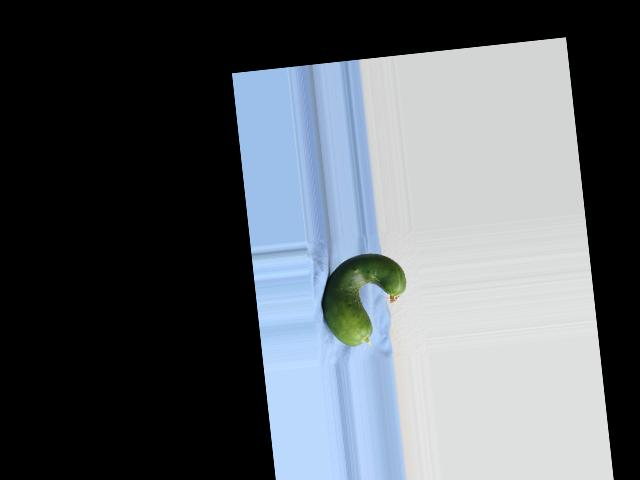cucumber: (317, 249, 412, 349)
